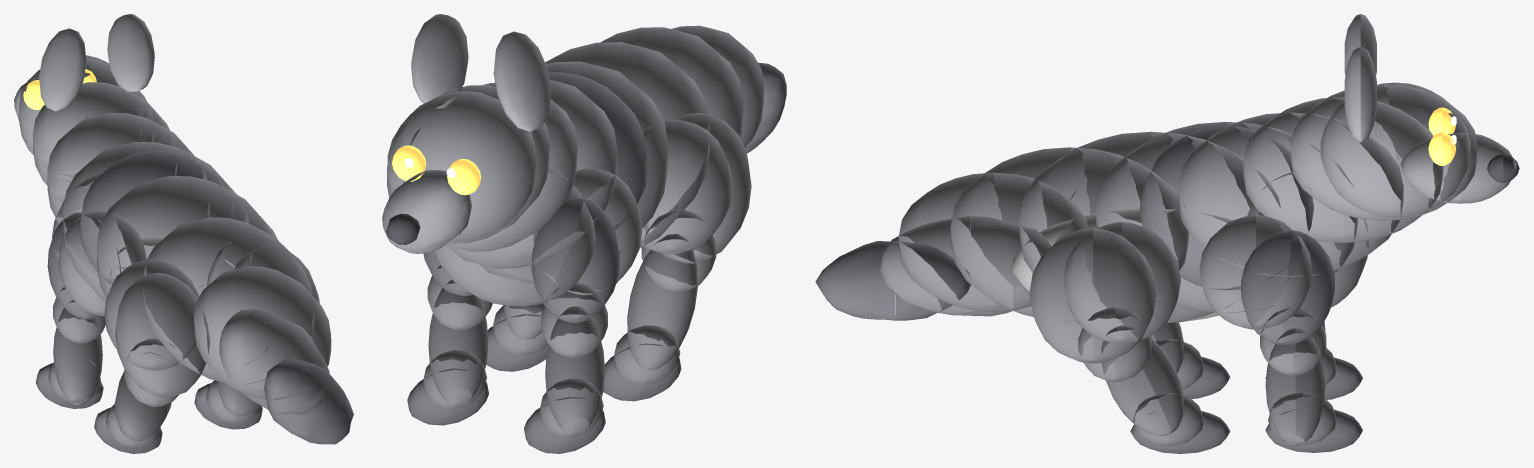
Rendered from enemy_wolf.glb.
3 views of the same model, side by side, from view 1: azimuth 30°, elevation 25°; view 2: azimuth 150°, elevation 25°; view 3: azimuth 270°, elevation 25° (orthographic). The views are drawn at different scales.
Parts seen in each view (by area): view 1: chinchilla; view 2: chinchilla; view 3: chinchilla.
Part boxes in pixels (x1,y1,x2,y2): chinchilla: (14, 14, 353, 453); chinchilla: (382, 14, 786, 453); chinchilla: (815, 14, 1519, 453).
Size of the model in its own units: 0.4096 by 0.7396 by 1.21.
